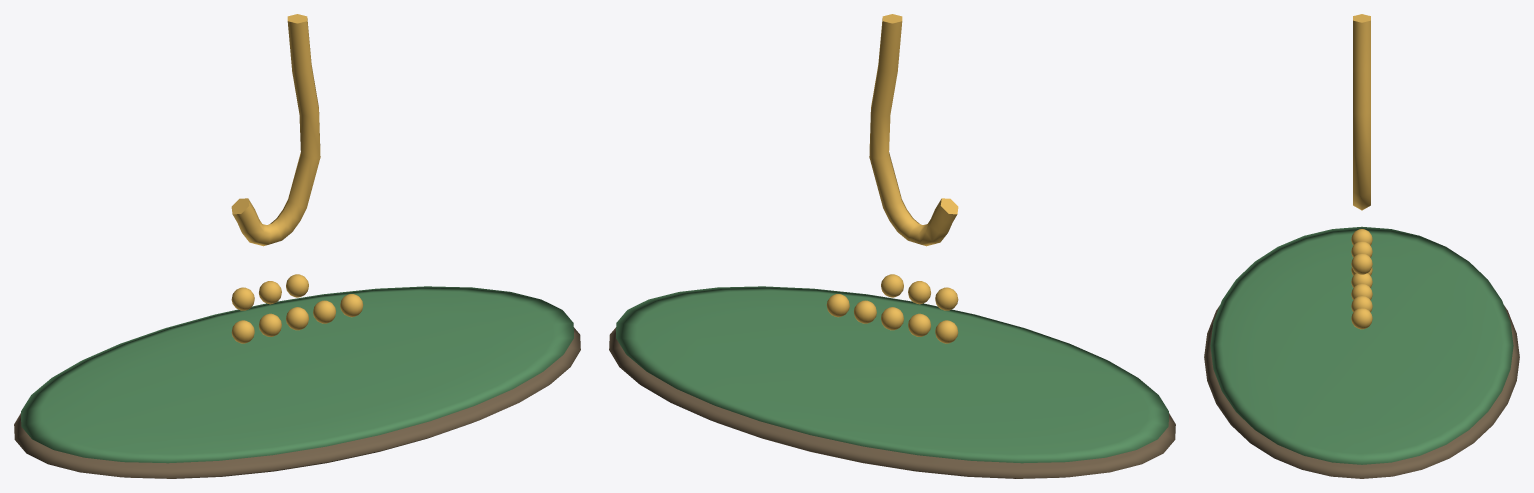
Rendered from tiny-beads.glb.
3 views of the same model, side by side, from view 1: azimuth 30°, elevation 25°; view 2: azimuth 150°, elevation 25°; view 3: azimuth 270°, elevation 25° (orthographic). The views are drawn at different scales.
Visible parts, largest first — view 1: tiny-beads_surface_01, tiny-beads_surface_00, tiny-beads_surface_02; view 2: tiny-beads_surface_01, tiny-beads_surface_00, tiny-beads_surface_02; view 3: tiny-beads_surface_01, tiny-beads_surface_00, tiny-beads_surface_02.
Part boxes in pixels (x1,y1,x2,y2): tiny-beads_surface_01: [21, 286, 573, 463]; tiny-beads_surface_00: [14, 327, 580, 478]; tiny-beads_surface_02: [231, 14, 363, 343]; tiny-beads_surface_01: [616, 286, 1168, 463]; tiny-beads_surface_00: [609, 327, 1175, 478]; tiny-beads_surface_02: [826, 14, 958, 343]; tiny-beads_surface_01: [1210, 226, 1513, 464]; tiny-beads_surface_00: [1204, 305, 1519, 478]; tiny-beads_surface_02: [1351, 14, 1372, 329].
Size of the model in its own units: 4.56 by 3.09 by 2.5.
